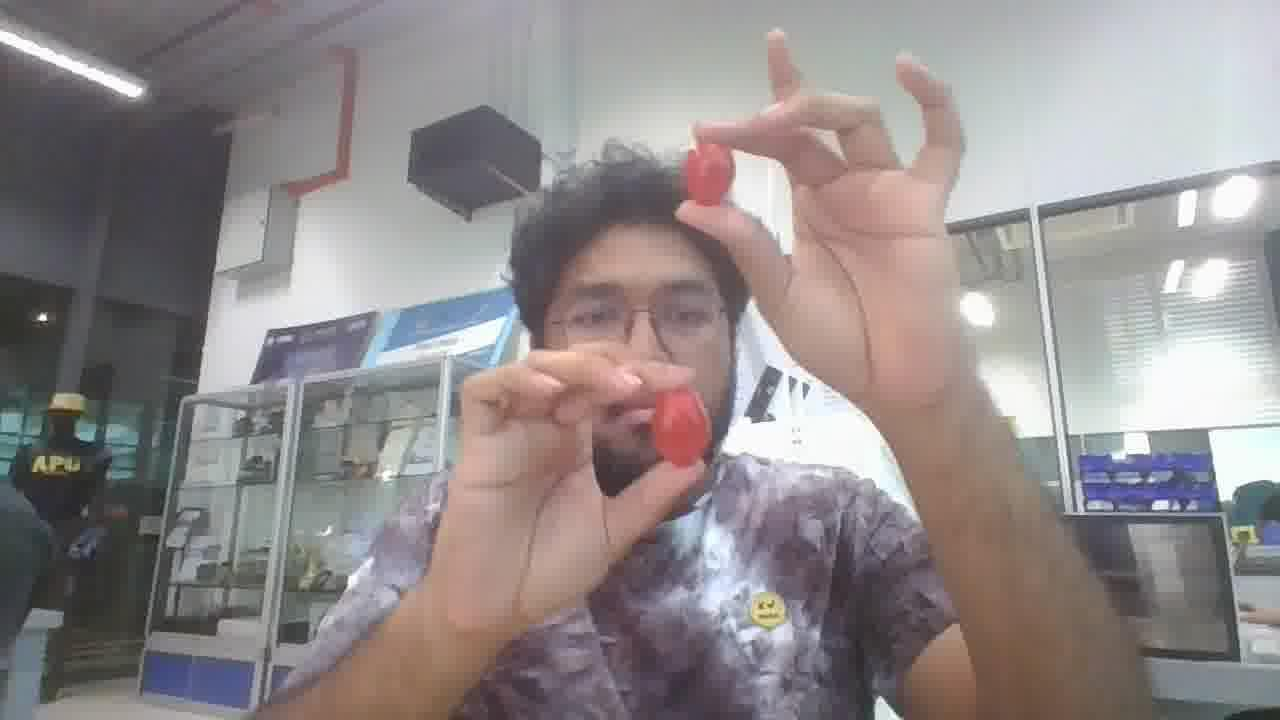red_cherry_tomato: (651, 389, 711, 466), (683, 144, 735, 206)
